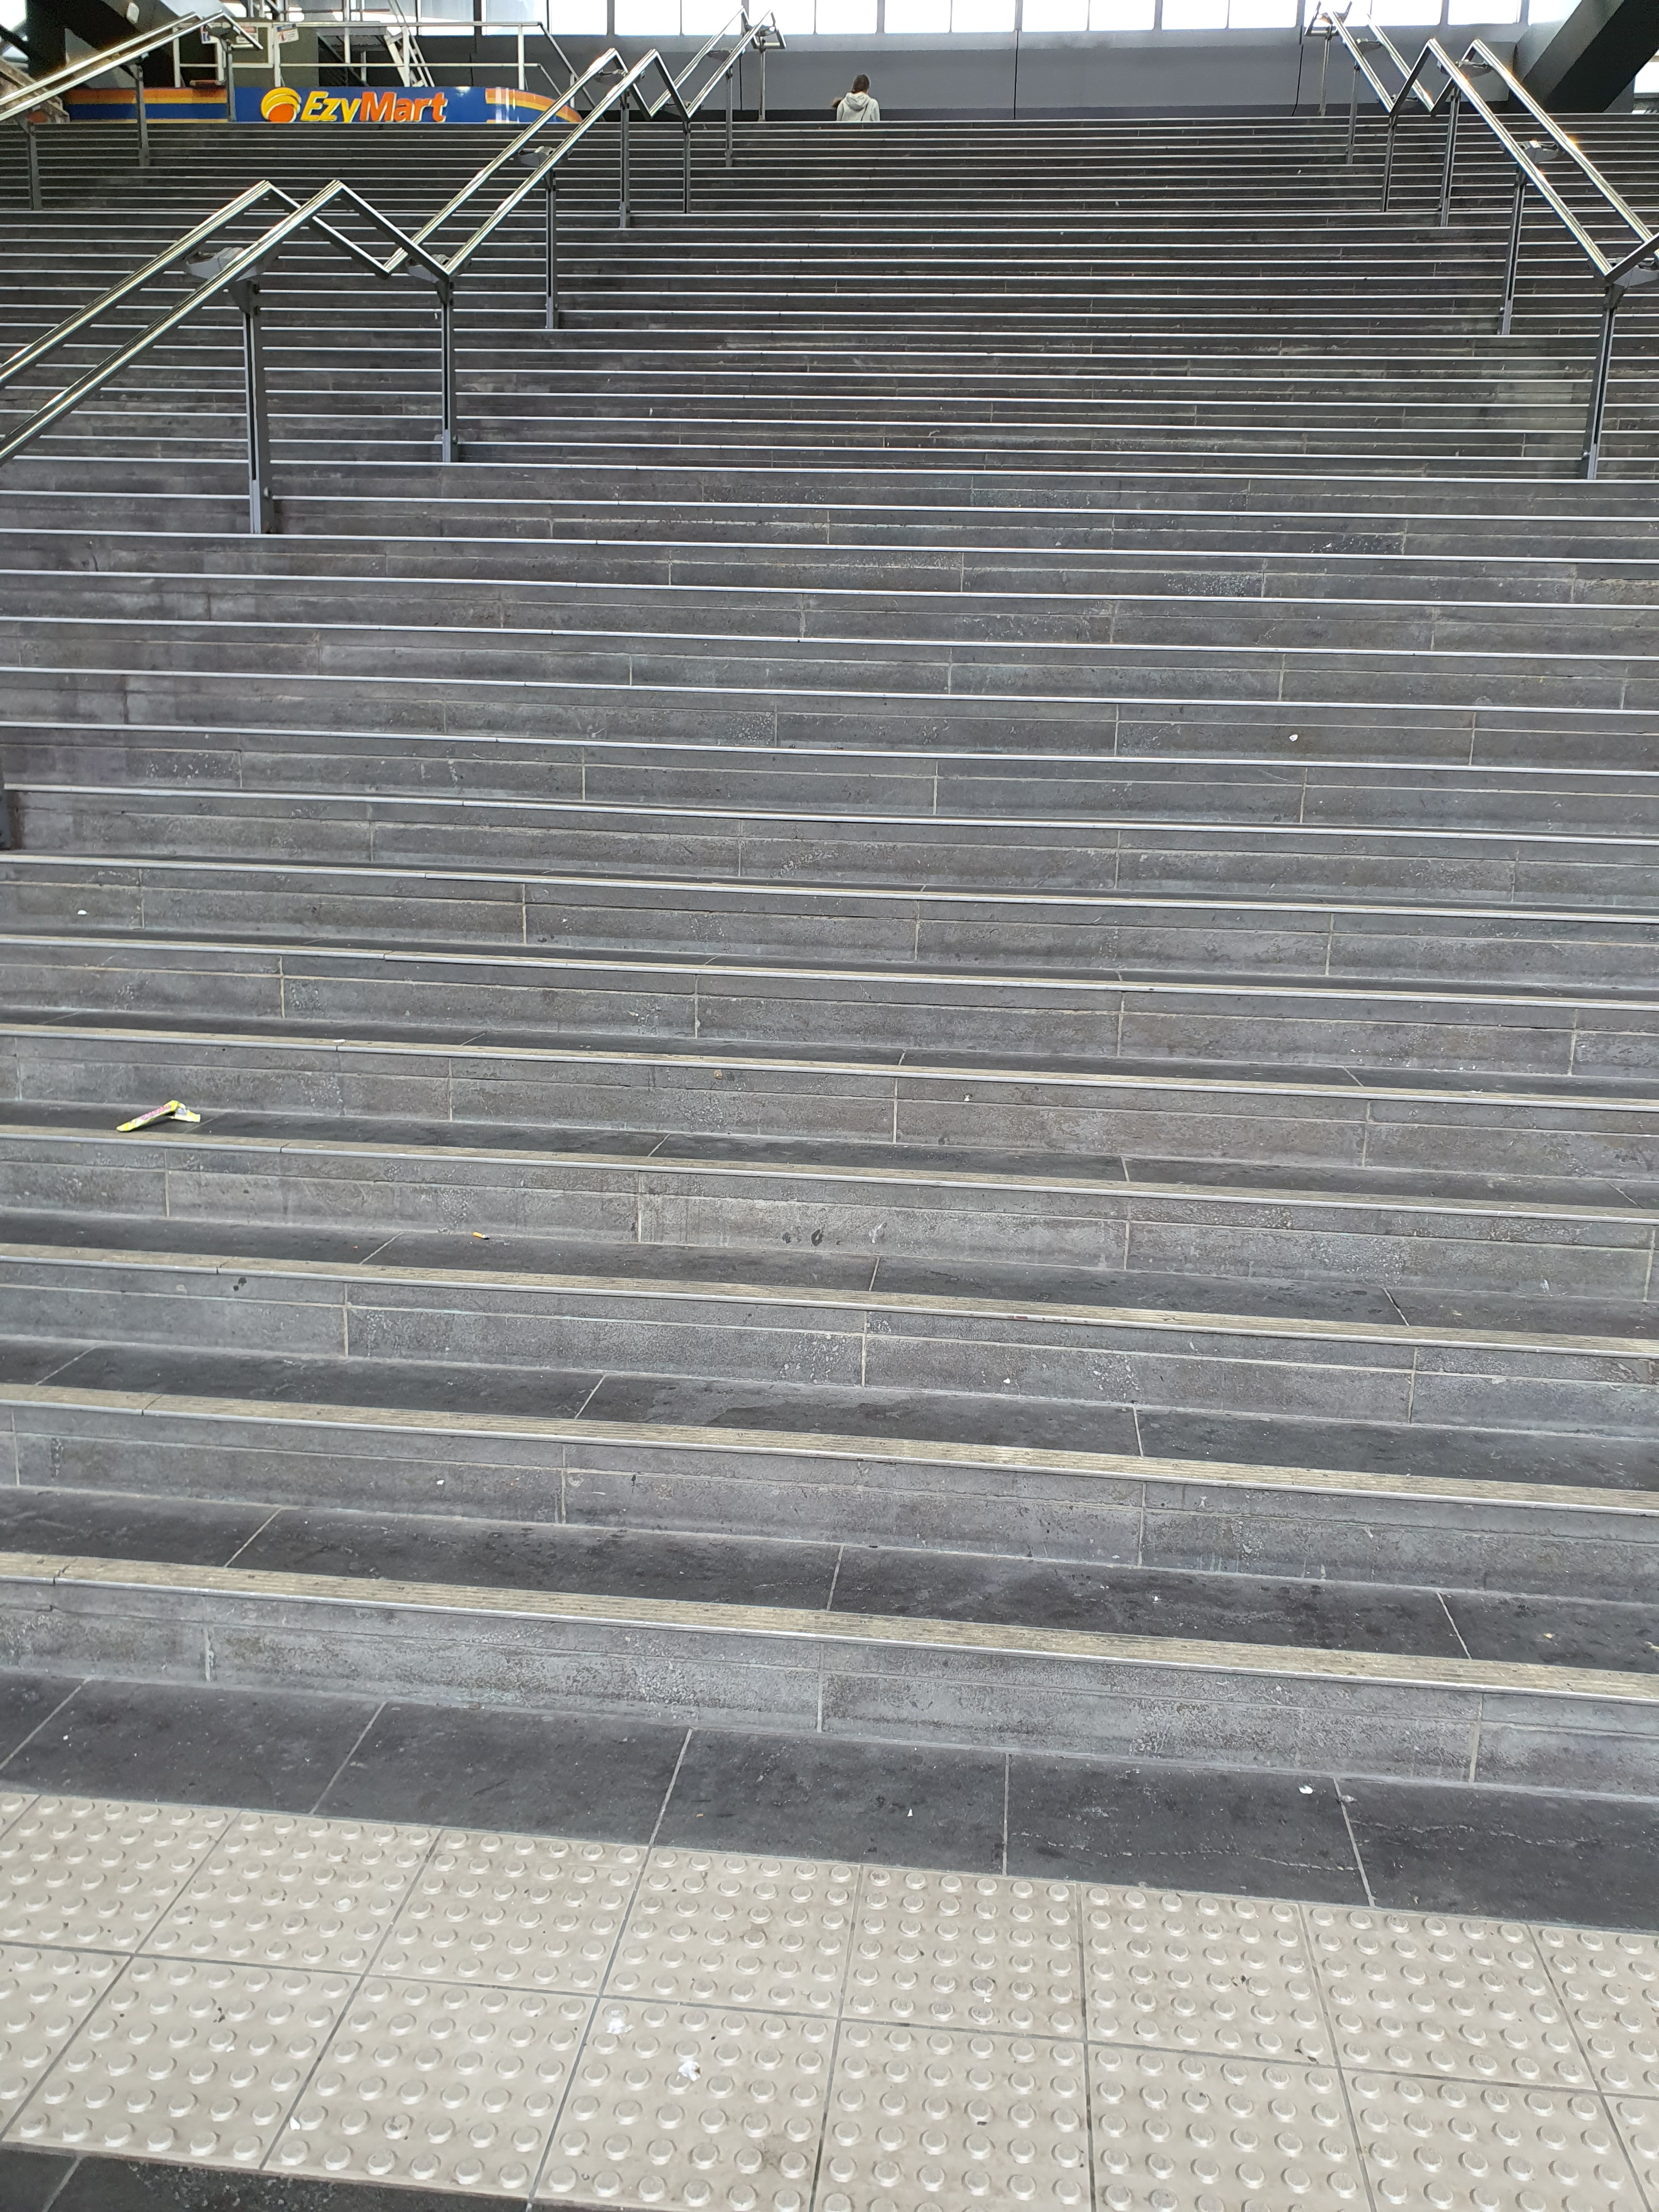upstairs: (19, 982, 1638, 1979)
